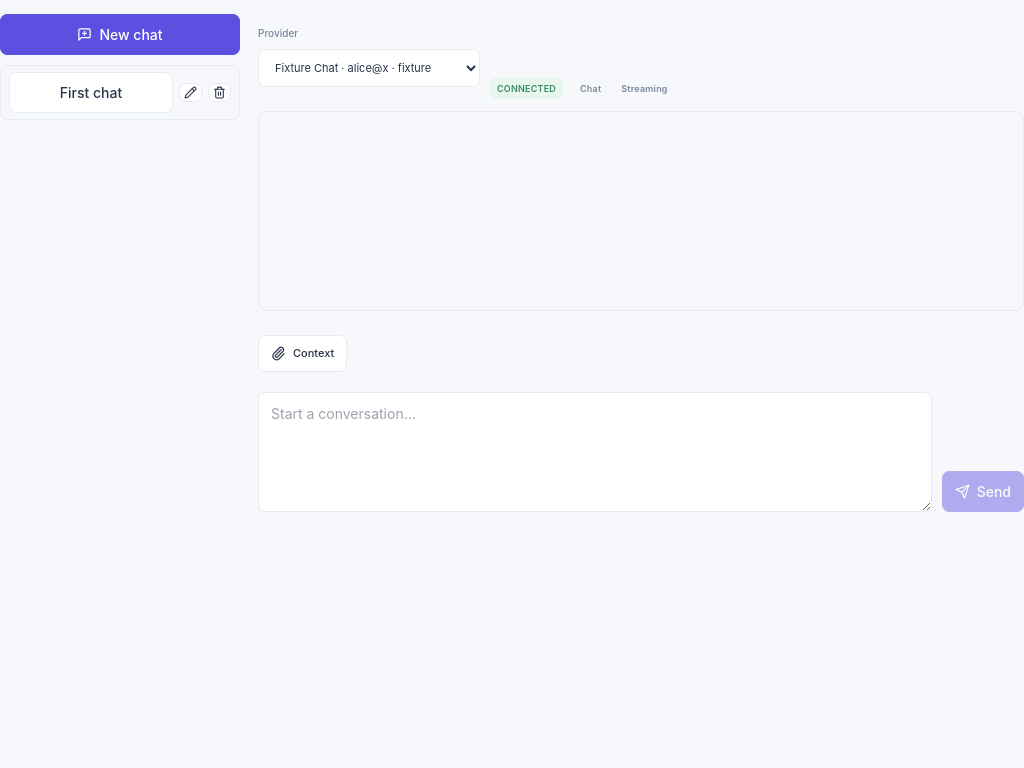
ChatPanel › shows the transfer modal when preview returns historyTransfer and sends transferHistory on confirm
This screenshot has width=1024, height=768.
Later steps or results of the test are not shown.
Click the button "First chat".
click(91, 92)  # box [9,72,173,113]
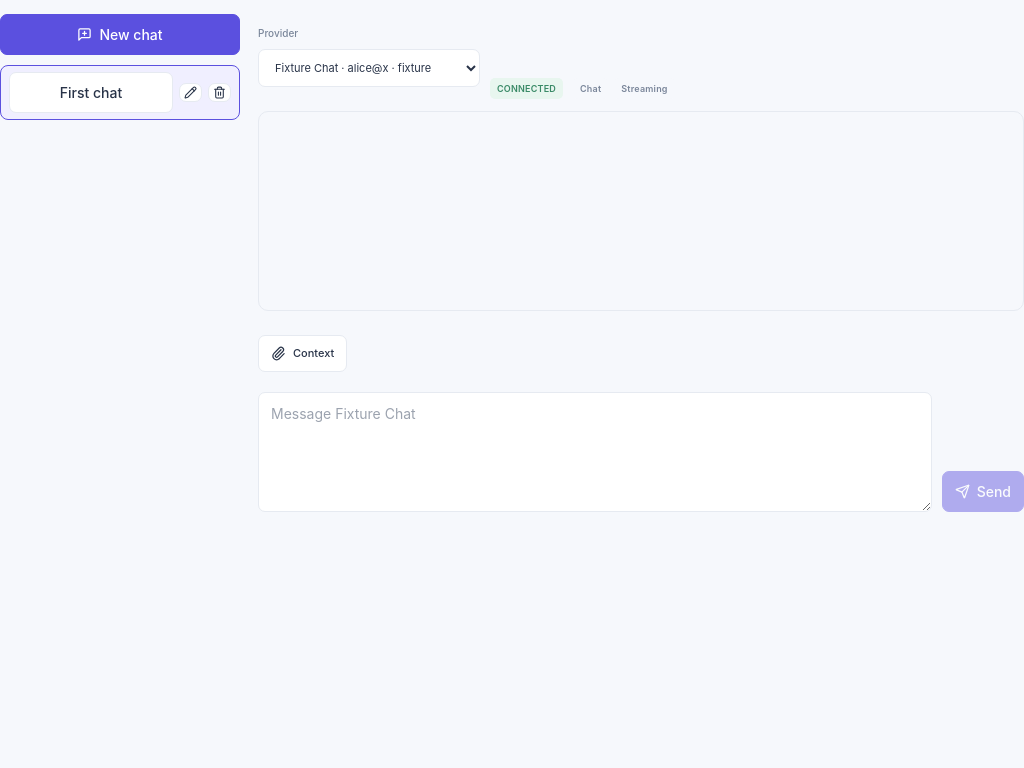
Switch to devin (bound to conn-1)
Select "Devin · devin@org · api.devin.ai" in the dropdown named "Chat provider" at (369, 68), box [258,49,480,87]
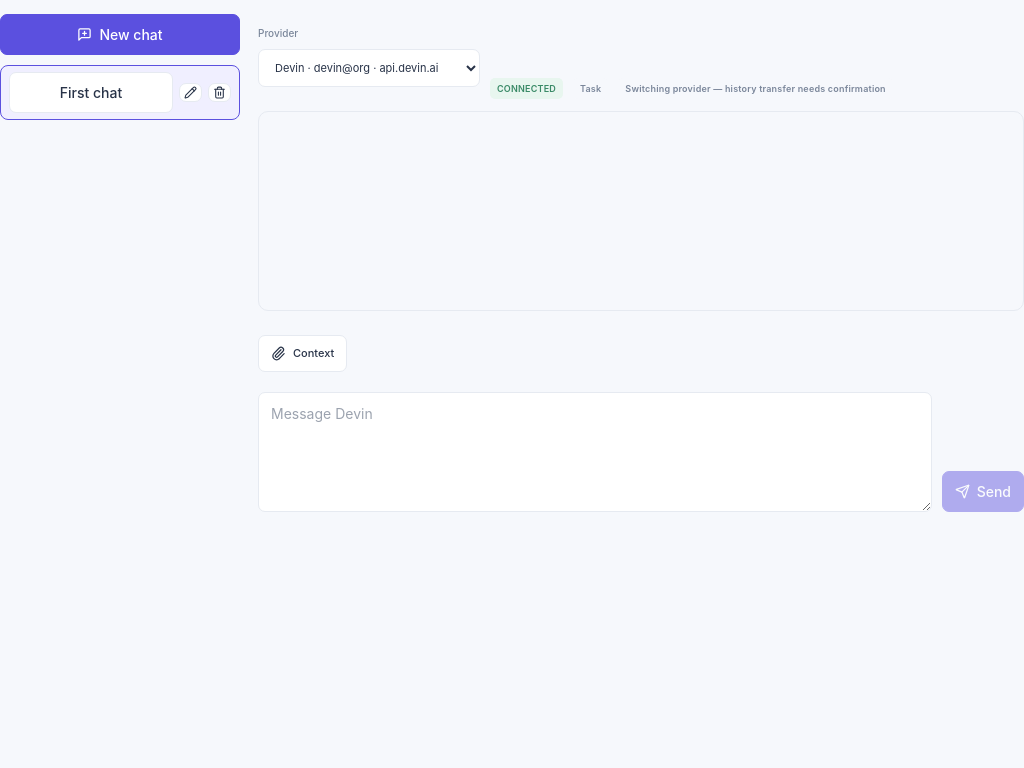
Type "hello" into the text box labelled "Message".
click(595, 452); type("hello")  # box [258,392,932,512]
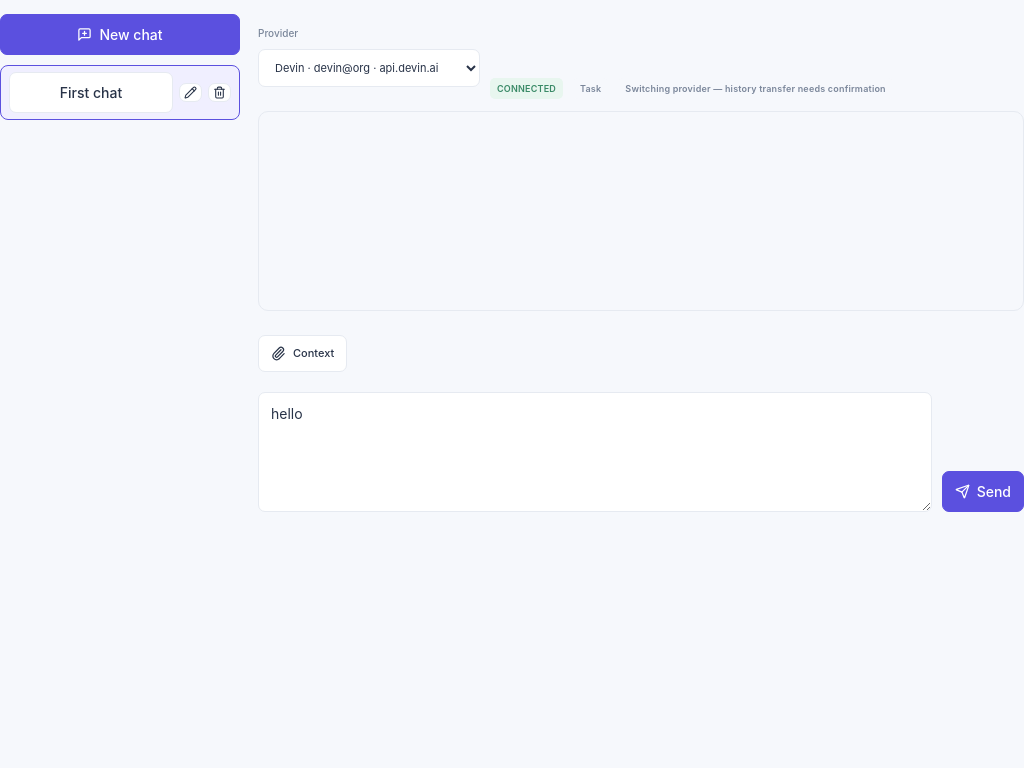
Click the button "Send".
click(983, 491)  # box [942,470,1023,512]
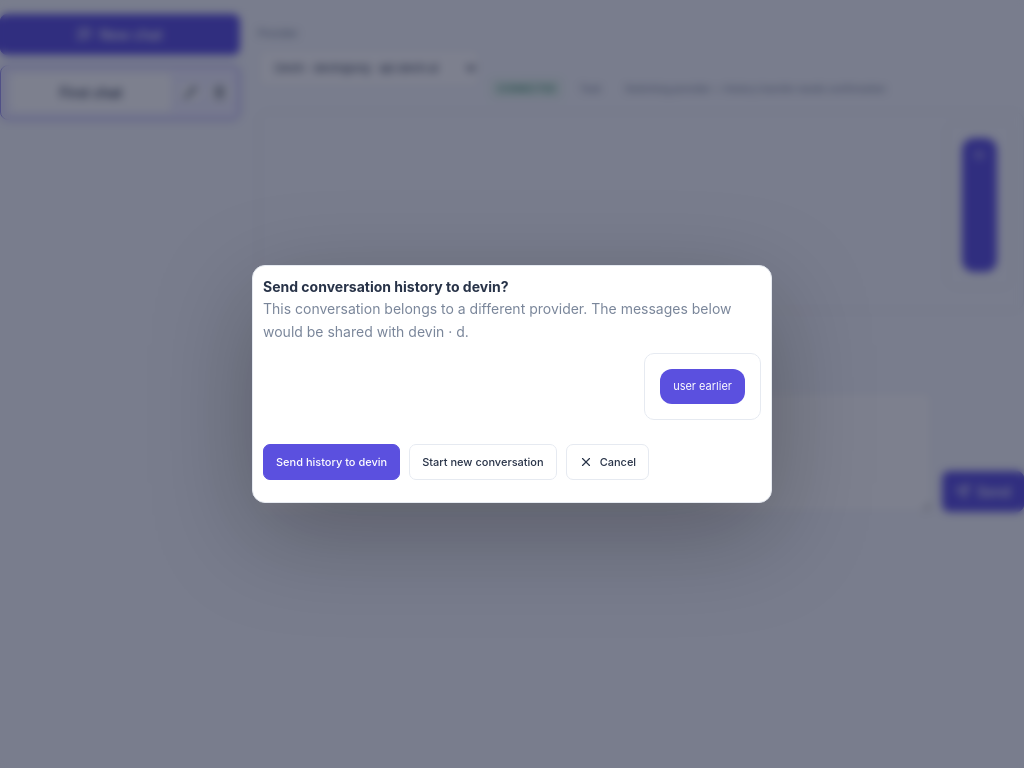
Check: the dialog named "Transfer history" is shown, box [252,265,772,503]
Check: the text "earlier" is shown, box [699,379,732,393]
